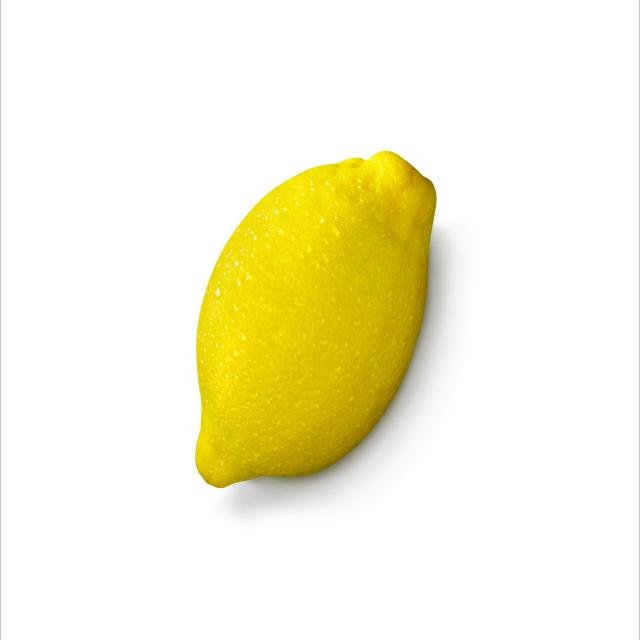lemon: (193, 146, 439, 493)
